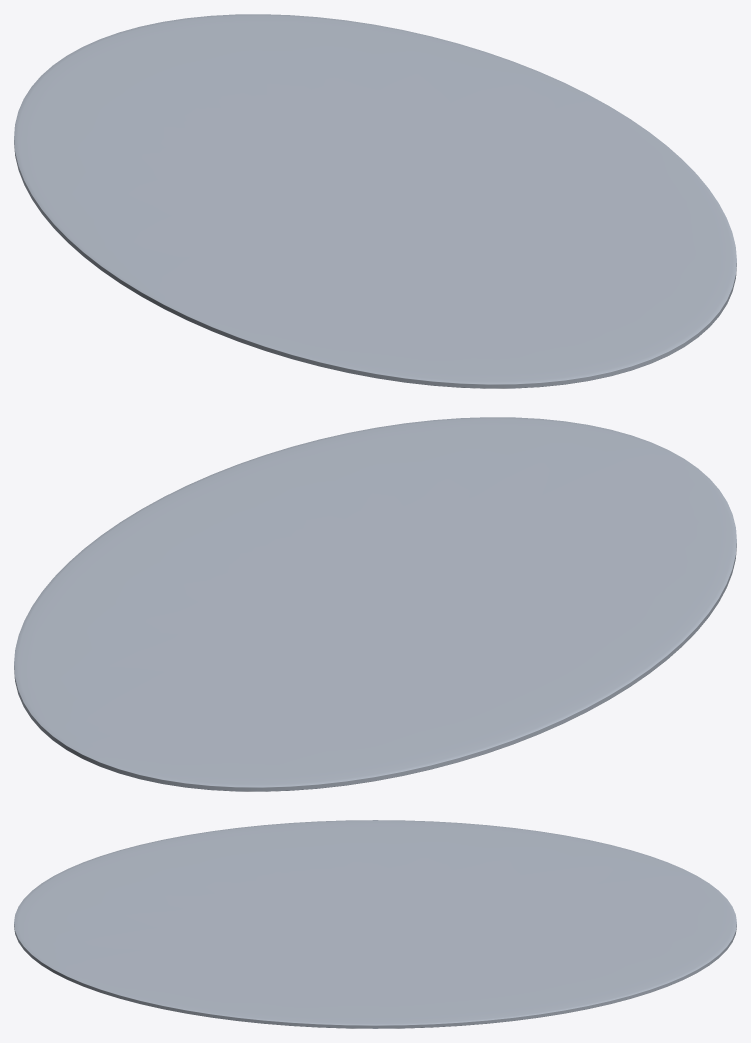
Rendered from MM_TapeteGrande.fbx.
3 renders of one model, top to bottom at view 1: azimuth 30°, elevation 25°; view 2: azimuth 150°, elevation 25°; view 3: azimuth 270°, elevation 25°, orthographic. The views are drawn at different scales.
Visible parts, largest first — view 1: Alfombra; view 2: Alfombra; view 3: Alfombra.
Boxes of the visible parts, x1=… form: Alfombra: x1=14, y1=14, x2=736, y2=388; Alfombra: x1=14, y1=417, x2=736, y2=791; Alfombra: x1=14, y1=820, x2=736, y2=1028.
Bounding box in the file's own units: 25.57 × 0.2866 × 38.08.
